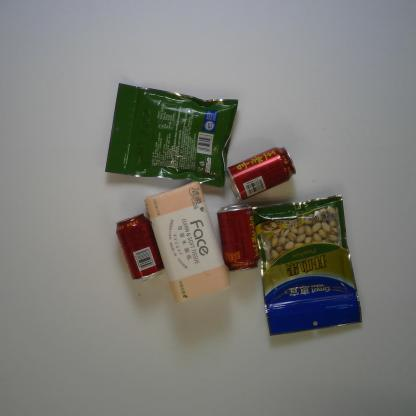Dried Fruit: (250, 190, 364, 339), (101, 81, 240, 191)
Drink: (224, 141, 301, 201), (113, 210, 165, 288), (216, 198, 260, 276)
Tissue: (142, 178, 229, 304)
